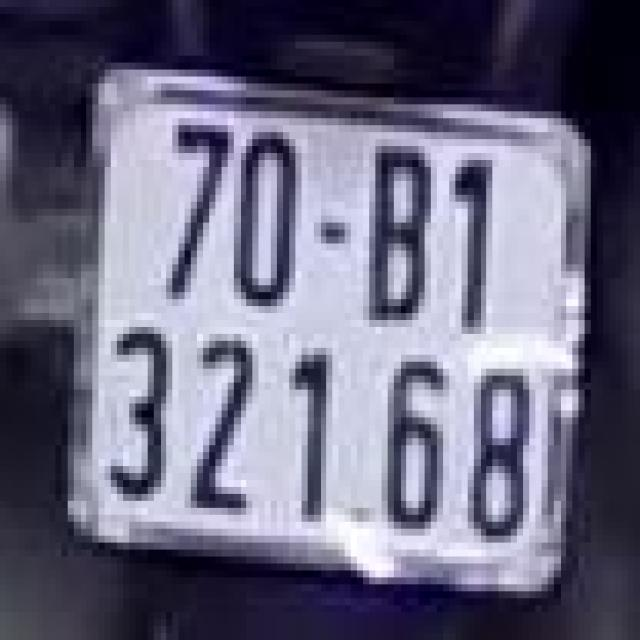0: (234, 111, 295, 327)
1: (443, 136, 505, 351), (277, 331, 332, 532)
2: (188, 327, 262, 536)
3: (99, 317, 172, 518)
6: (372, 344, 452, 553)
7: (154, 115, 234, 323)
8: (464, 358, 538, 560)
B: (357, 129, 443, 344)
